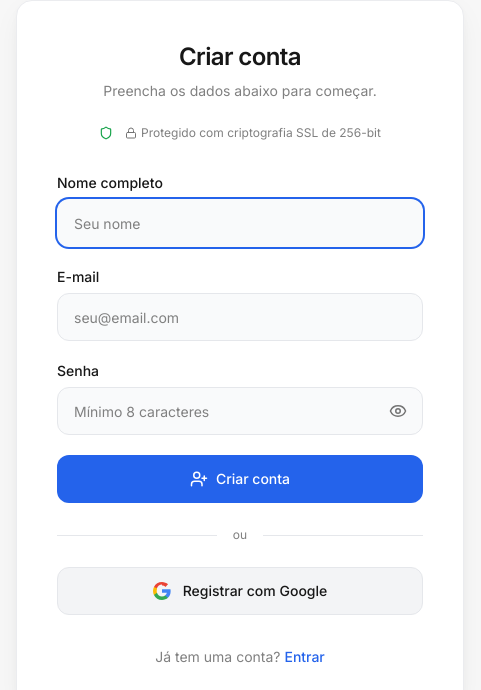
it: SignupForm › mostra indicador de força da senha
Type "TestPassword123!" into the password field labelled "Senha". click: (240, 411)
box: top-left (57, 387), bottom-right (423, 435)
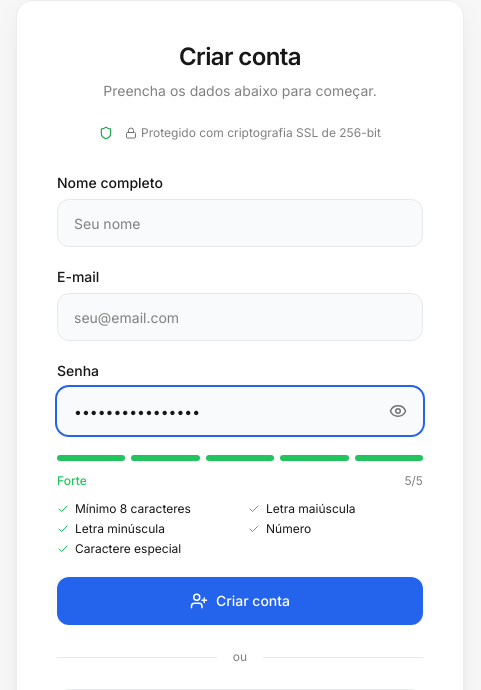
Check: the progress indicator is shown, box top-left (57, 455), bottom-right (423, 461)
